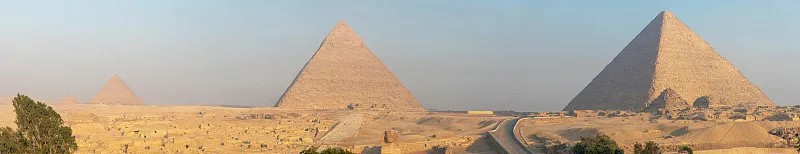Pyramid: (561, 11, 782, 111), (277, 21, 426, 112), (86, 75, 149, 105)
